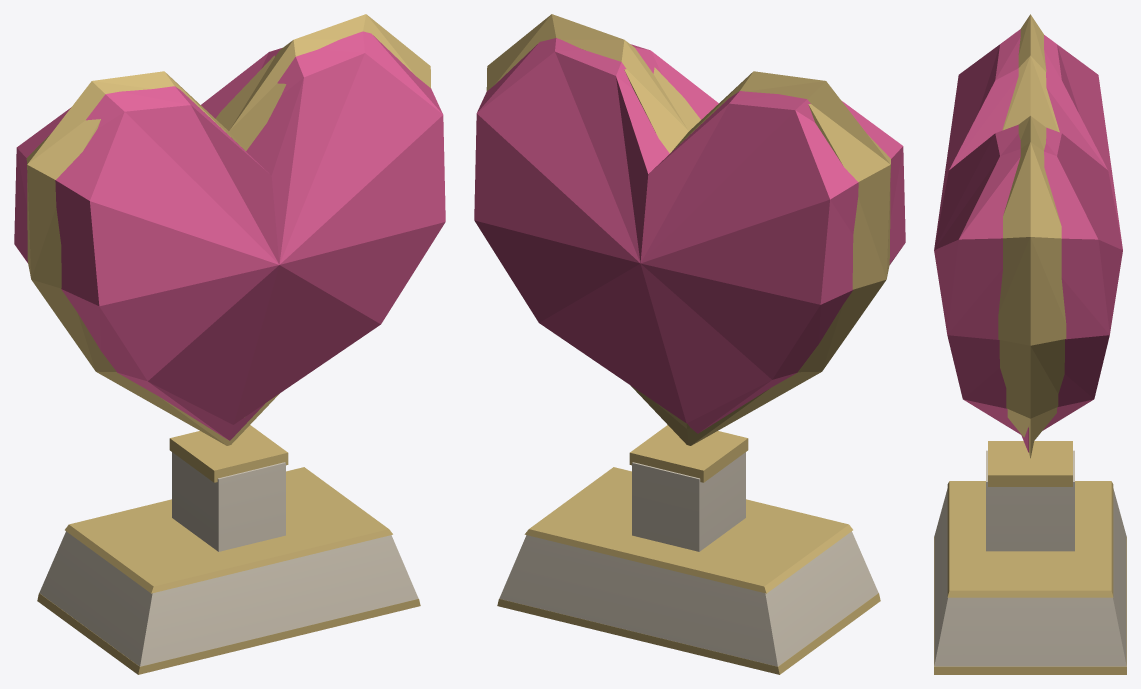
Rendered from heart-sculpt.glb.
3 renders of one model, left to right at view 1: azimuth 30°, elevation 25°; view 2: azimuth 150°, elevation 25°; view 3: azimuth 270°, elevation 25°, orthographic. The views are drawn at different scales.
Visible parts, largest first — view 1: heart_mesh, root_mesh; view 2: heart_mesh, root_mesh; view 3: heart_mesh, root_mesh.
Boxes of the visible parts, x1,y1,x2,y2 form: heart_mesh: [14, 14, 445, 445]; root_mesh: [37, 425, 420, 674]; heart_mesh: [474, 14, 905, 445]; root_mesh: [497, 425, 880, 674]; heart_mesh: [934, 14, 1122, 458]; root_mesh: [934, 441, 1126, 674].
Size of the model in its own units: 1.2 by 1.58 by 0.52.
